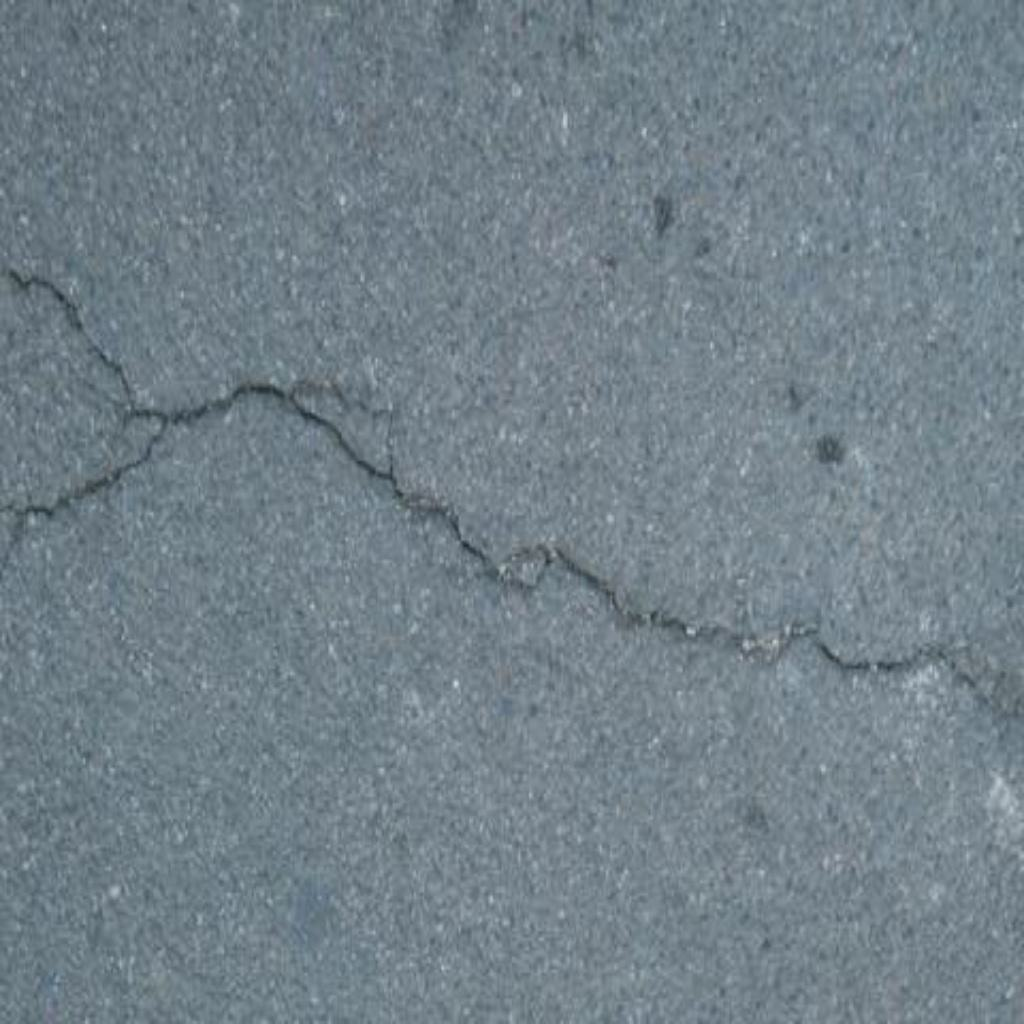Crack: (1, 267, 1024, 718)
